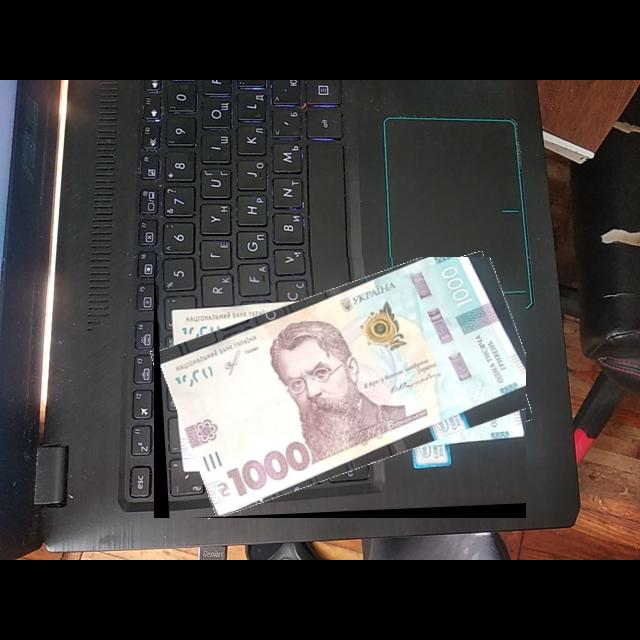1000uah: (160, 257, 527, 518)
